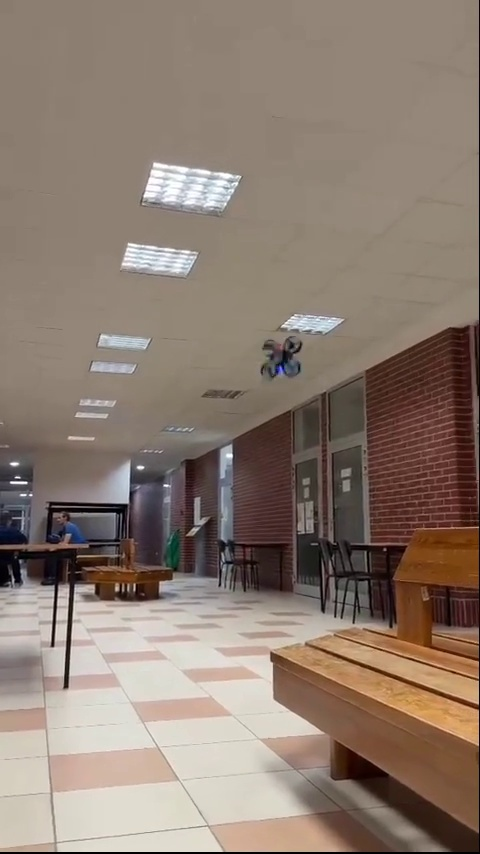drone: (252, 333, 307, 381)
no vest: (42, 500, 87, 569), (0, 505, 33, 584)
